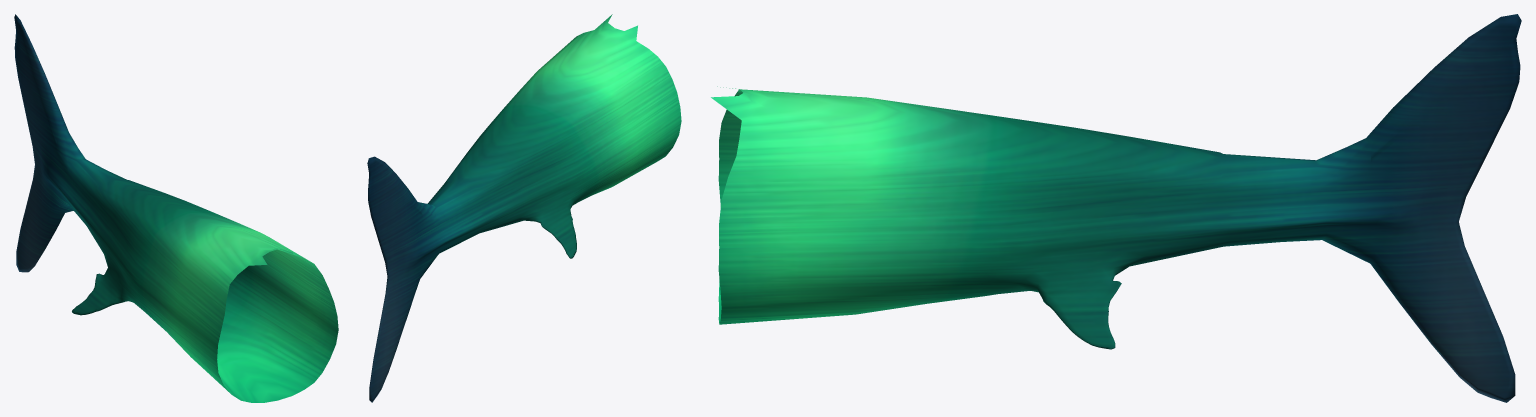
File: cola.obj
3 views of the same model, side by side, from view 1: azimuth 30°, elevation 25°; view 2: azimuth 150°, elevation 25°; view 3: azimuth 270°, elevation 25° (orthographic). The views are drawn at different scales.
Parts seen in each view (by area): view 1: cola; view 2: cola; view 3: cola.
Boxes of the visible parts, <box> form: cola: <box>14,14,338,402</box>; cola: <box>367,14,681,402</box>; cola: <box>711,14,1521,402</box>.
Bounding box in the file's own units: 19.55 × 31.04 × 58.7.
1 material, 1 textured.
